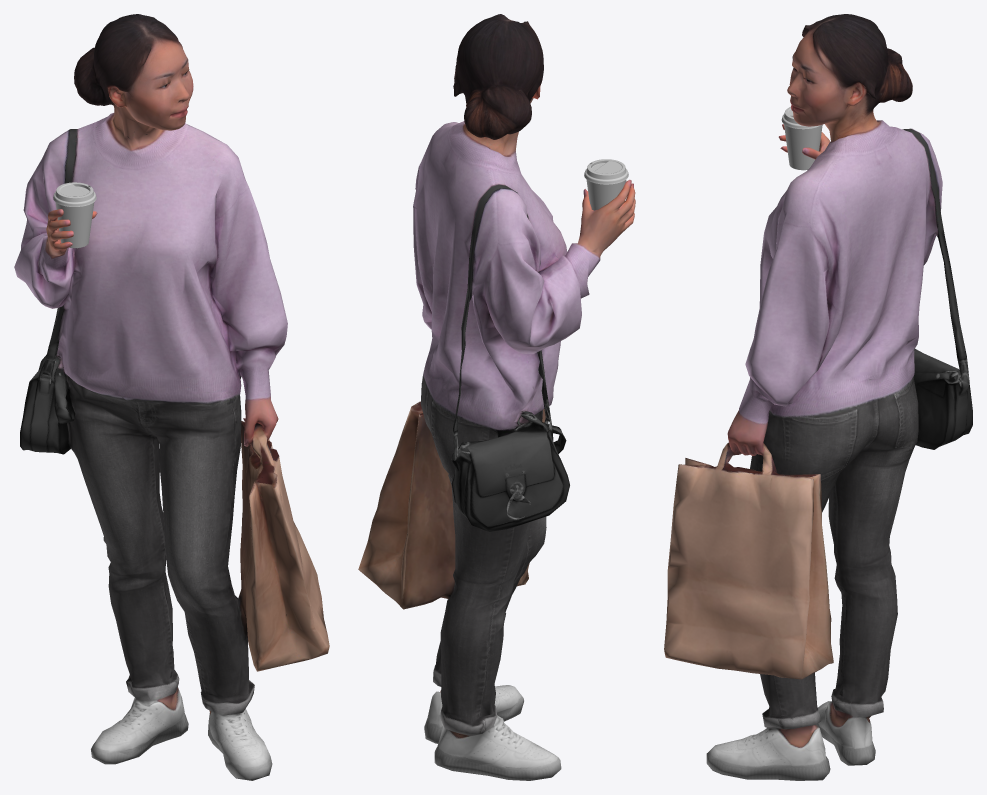
Rendered from Humano_Posed_0835341-Woman_02_LOD2.fbx.
3 views of the same model, side by side, from view 1: azimuth 30°, elevation 25°; view 2: azimuth 150°, elevation 25°; view 3: azimuth 270°, elevation 25° (orthographic). The views are drawn at different scales.
Visible parts, largest first — view 1: Humano_Posed_0835341-Woman_02_LOD2, Humano_Posed_0835341-Woman_Accessories-01_02_LOD2; view 2: Humano_Posed_0835341-Woman_02_LOD2, Humano_Posed_0835341-Woman_Accessories-01_02_LOD2; view 3: Humano_Posed_0835341-Woman_02_LOD2, Humano_Posed_0835341-Woman_Accessories-01_02_LOD2.
Part boxes in pixels (bbox=[...]): Humano_Posed_0835341-Woman_02_LOD2: bbox=[14, 14, 329, 780]; Humano_Posed_0835341-Woman_Accessories-01_02_LOD2: bbox=[53, 182, 96, 248]; Humano_Posed_0835341-Woman_02_LOD2: bbox=[358, 14, 635, 780]; Humano_Posed_0835341-Woman_Accessories-01_02_LOD2: bbox=[584, 159, 628, 210]; Humano_Posed_0835341-Woman_02_LOD2: bbox=[664, 14, 972, 780]; Humano_Posed_0835341-Woman_Accessories-01_02_LOD2: bbox=[781, 106, 822, 170].
Size of the model in its own units: 63.14 by 164 by 63.36.
